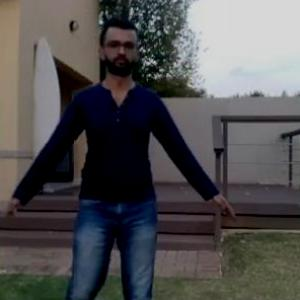land: (1, 41, 220, 299)
